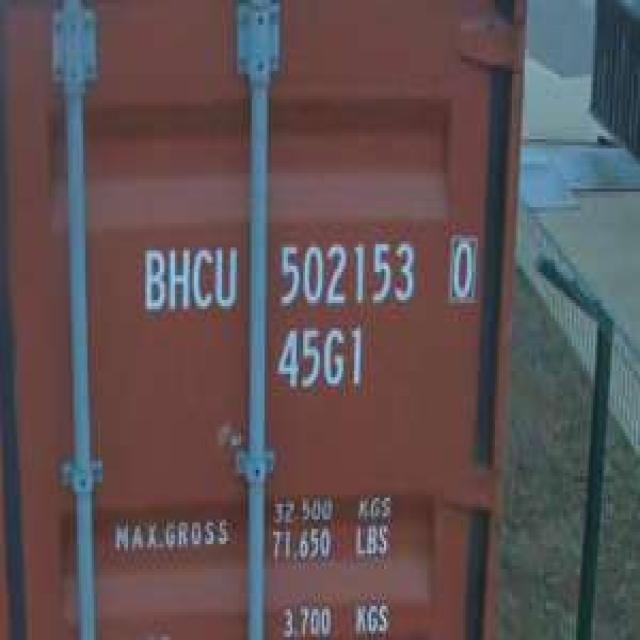dv: (444, 226, 480, 306)
owner: (139, 238, 241, 319)
serial: (273, 232, 420, 312)
size: (271, 318, 367, 399)
